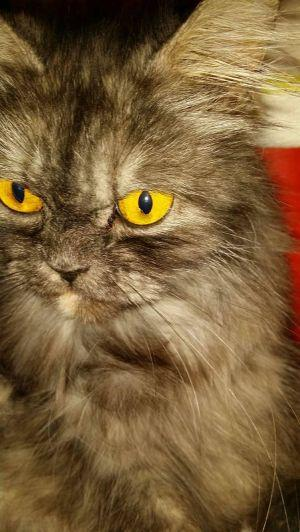persian: (1, 28, 278, 364)
